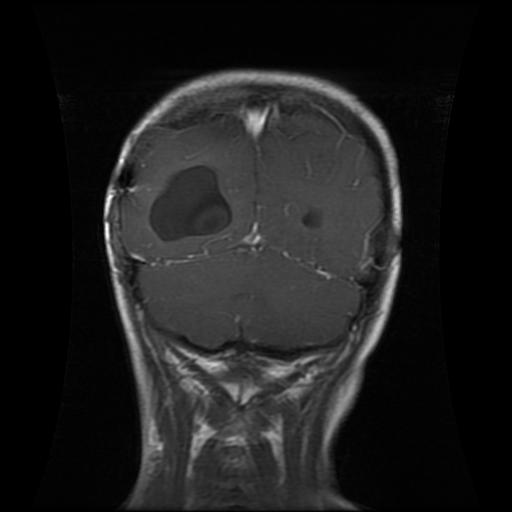Gliomia_tumour: (145, 162, 235, 241)
